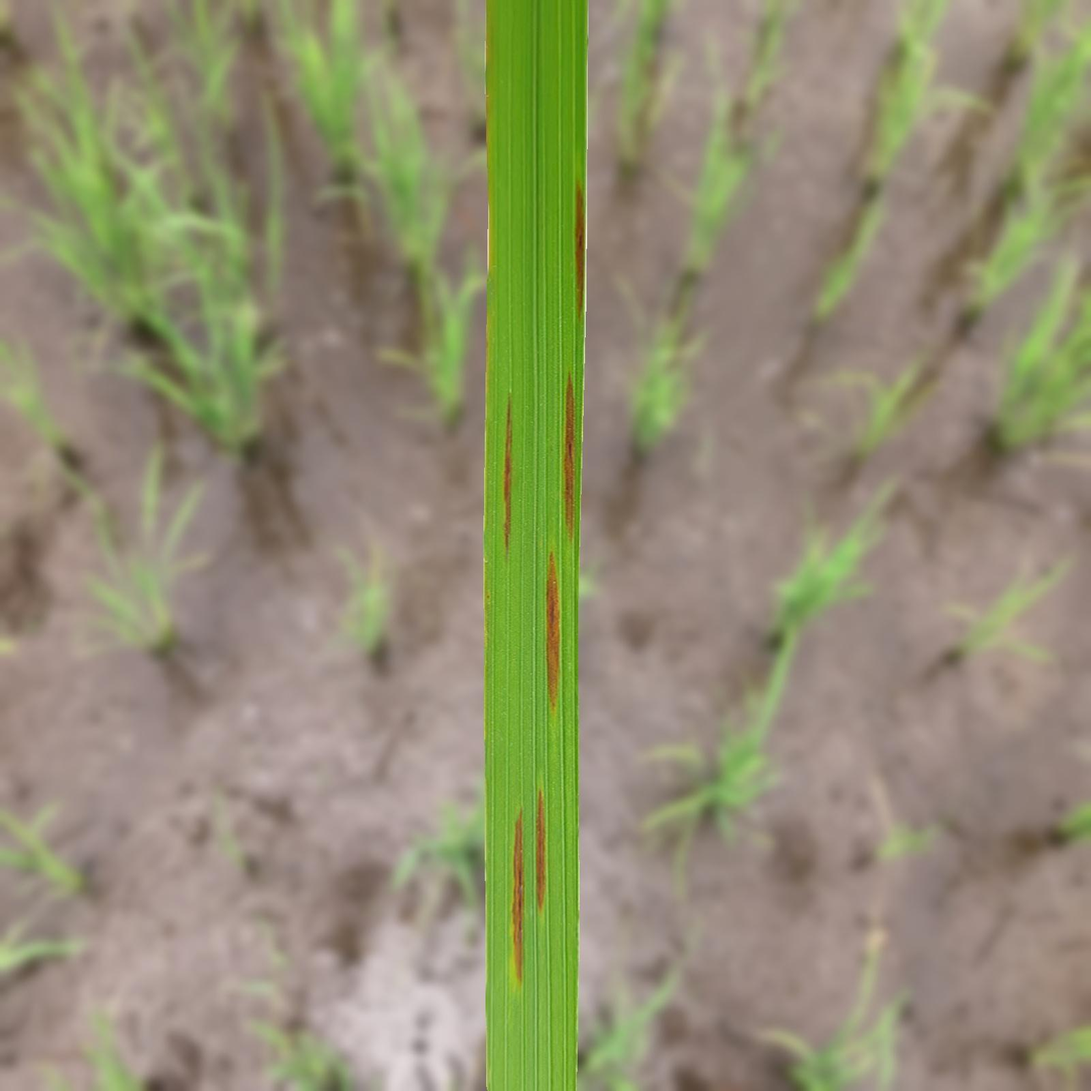LEAF: (483, 0, 588, 1090)
NBS: (546, 554, 560, 708), (513, 811, 524, 983), (564, 374, 575, 537), (503, 396, 512, 548), (535, 788, 546, 911), (576, 185, 585, 316)
